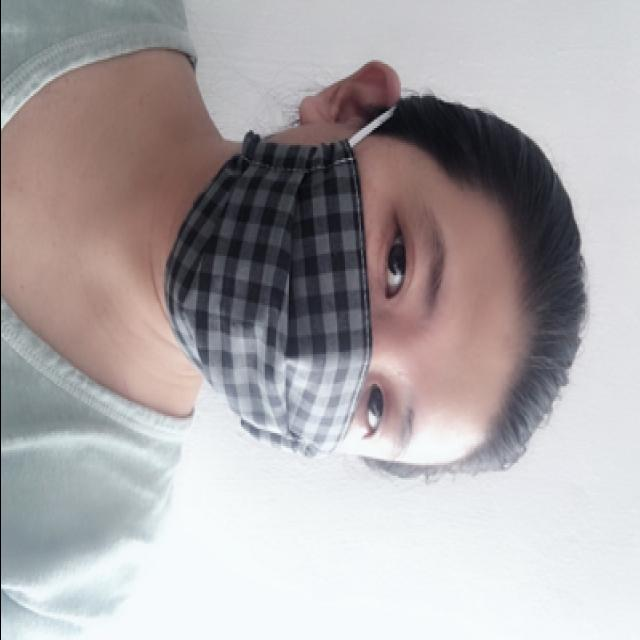mask: (160, 126, 448, 465)
